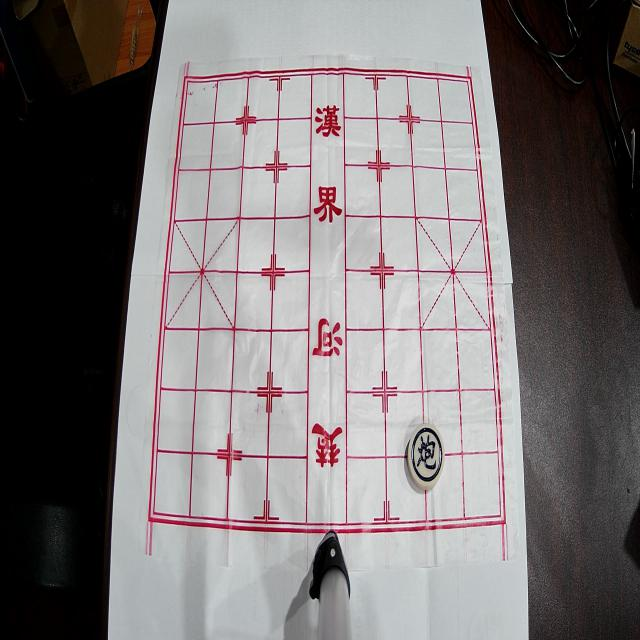black-cannon: (408, 424, 444, 489)
